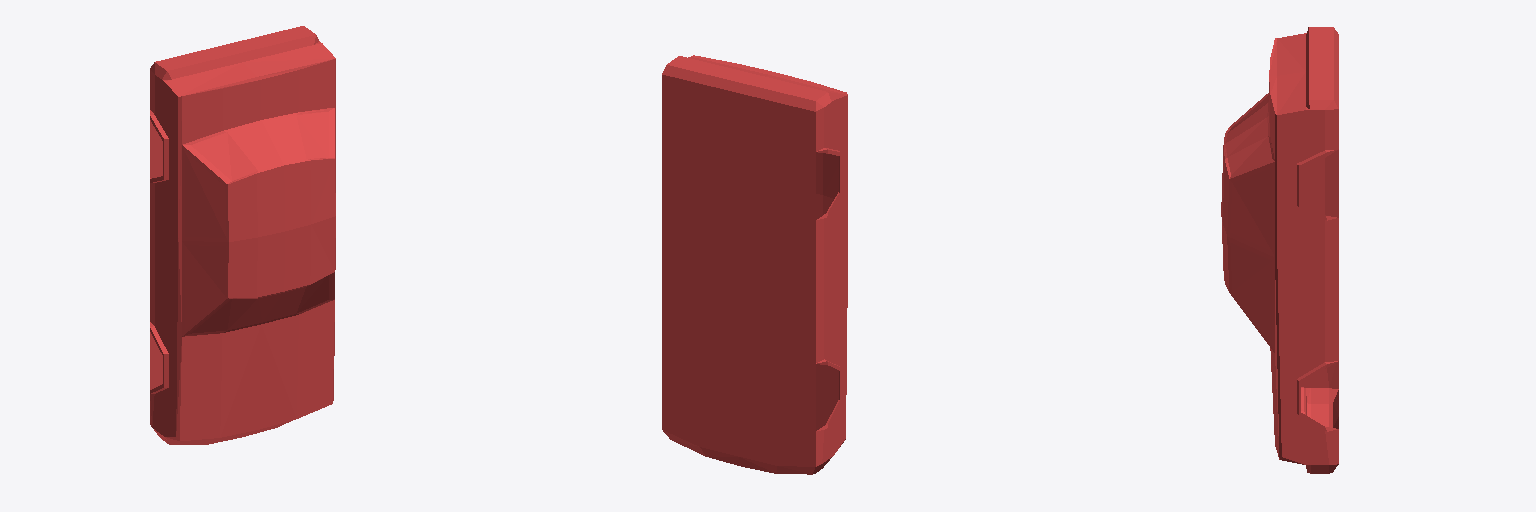
The model's file is CuerpoCarro.obj.
3 views of the same model, side by side, from view 1: azimuth 30°, elevation 25°; view 2: azimuth 150°, elevation 25°; view 3: azimuth 270°, elevation 25° (orthographic).
Visible parts, largest first — view 1: Cuerpo_carro; view 2: Cuerpo_carro; view 3: Cuerpo_carro.
Boxes of the visible parts, x1,y1,x2,y2 form: Cuerpo_carro: [150, 26, 335, 444]; Cuerpo_carro: [662, 55, 847, 474]; Cuerpo_carro: [1221, 27, 1338, 473].
Size of the model in its own units: 2.1 by 4.67 by 1.29.